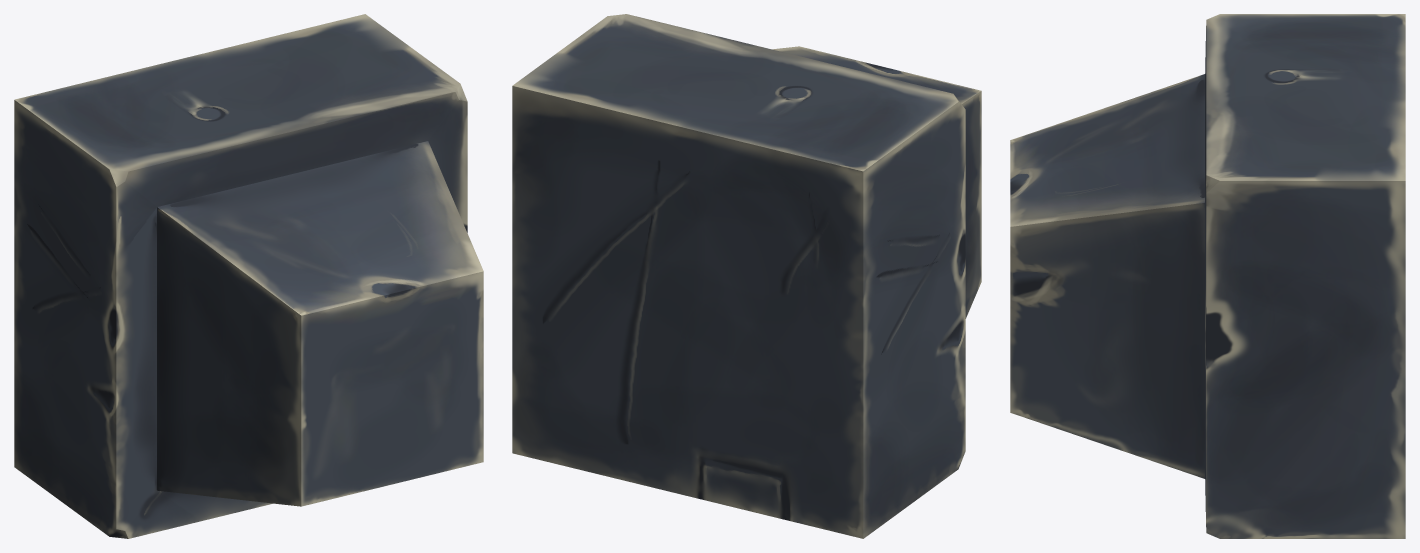
The model's file is Ingot_Model.fbx.
3 views of the same model, side by side, from view 1: azimuth 30°, elevation 25°; view 2: azimuth 150°, elevation 25°; view 3: azimuth 270°, elevation 25° (orthographic). The views are drawn at different scales.
Parts seen in each view (by area): view 1: Ingot; view 2: Ingot; view 3: Ingot.
Boxes of the visible parts, x1,y1,x2,y2 form: Ingot: [14, 14, 483, 538]; Ingot: [512, 14, 981, 538]; Ingot: [1010, 14, 1405, 538].
Bounding box in the file's own units: 200 × 200 × 200.
